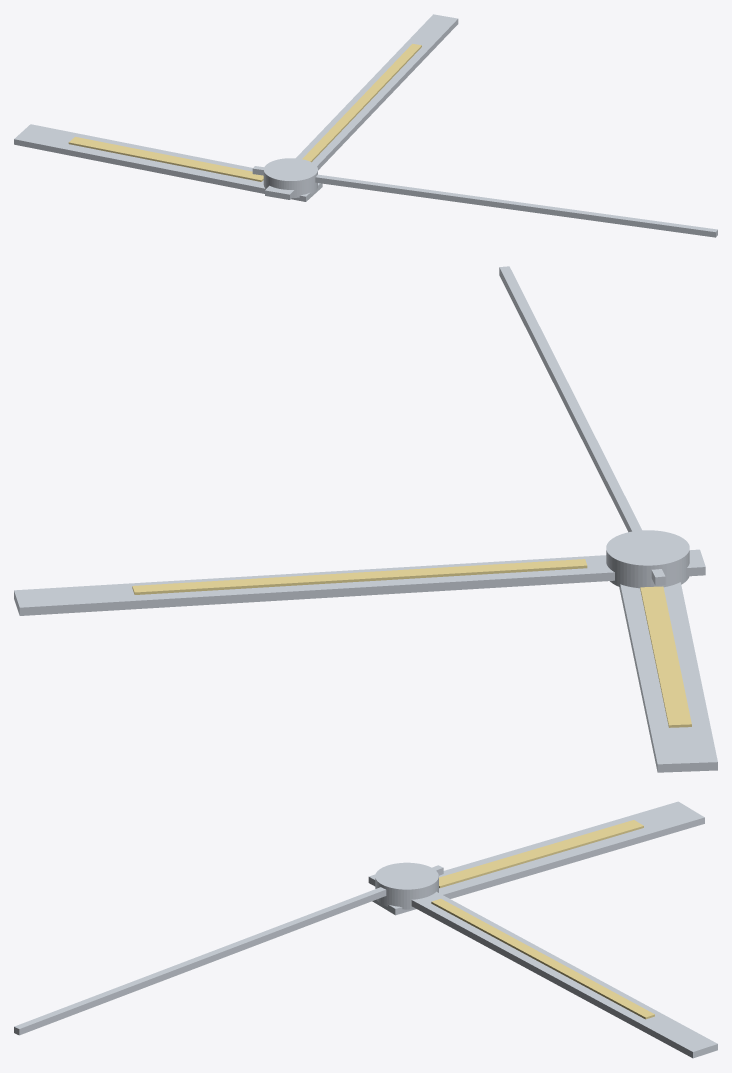
File: hands-pilot.glb
The picture shows the model from 3 angles, top to bottom: view 1: azimuth 30°, elevation 25°; view 2: azimuth 150°, elevation 25°; view 3: azimuth 270°, elevation 25°; orthographic projection. The views are drawn at different scales.
Parts seen in each view (by area): view 1: DD_ARCH_HAND_0, DD_ARCH_HAND_1, DD_ARCH_HAND_2, DD_ARCH_HAND_LUME_0, DD_ARCH_HAND_HUB, DD_ARCH_HAND_LUME_1; view 2: DD_ARCH_HAND_1, DD_ARCH_HAND_0, DD_ARCH_HAND_LUME_1, DD_ARCH_HAND_2, DD_ARCH_HAND_HUB, DD_ARCH_HAND_LUME_0; view 3: DD_ARCH_HAND_1, DD_ARCH_HAND_0, DD_ARCH_HAND_2, DD_ARCH_HAND_LUME_1, DD_ARCH_HAND_LUME_0, DD_ARCH_HAND_HUB.
Boxes of the visible parts, x1,y1,x2,y2 form: DD_ARCH_HAND_0: [14, 124, 322, 201]; DD_ARCH_HAND_1: [265, 14, 458, 199]; DD_ARCH_HAND_2: [252, 166, 717, 237]; DD_ARCH_HAND_LUME_0: [68, 136, 263, 181]; DD_ARCH_HAND_HUB: [263, 158, 317, 197]; DD_ARCH_HAND_LUME_1: [302, 43, 421, 162]; DD_ARCH_HAND_1: [14, 549, 705, 615]; DD_ARCH_HAND_0: [619, 582, 717, 772]; DD_ARCH_HAND_LUME_1: [132, 559, 587, 594]; DD_ARCH_HAND_2: [499, 266, 665, 585]; DD_ARCH_HAND_HUB: [606, 530, 689, 588]; DD_ARCH_HAND_LUME_0: [640, 586, 691, 727]; DD_ARCH_HAND_1: [368, 874, 717, 1058]; DD_ARCH_HAND_0: [372, 801, 704, 915]; DD_ARCH_HAND_2: [14, 865, 443, 1035]; DD_ARCH_HAND_LUME_1: [431, 898, 654, 1019]; DD_ARCH_HAND_LUME_0: [439, 820, 643, 887]; DD_ARCH_HAND_HUB: [375, 862, 438, 909].
Bounding box in the file's own units: 13.89 × 0.6 × 16.03.
